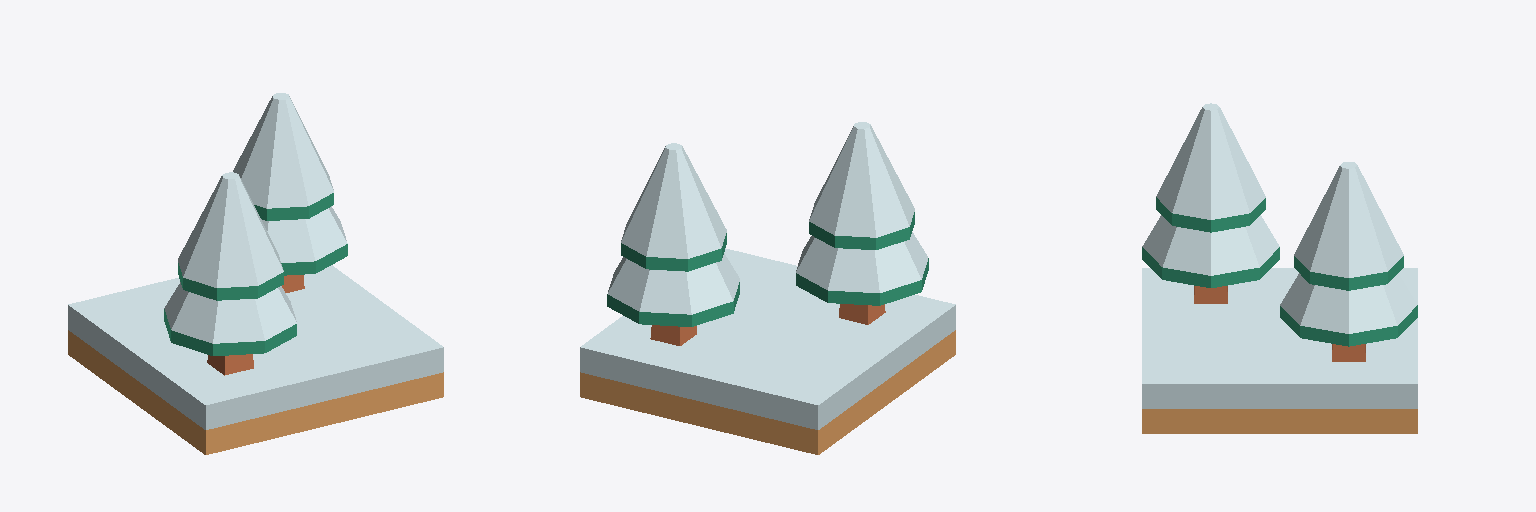
The model's file is snow_tile_treeDouble.obj.
3 renders of one model, left to right at view 1: azimuth 30°, elevation 25°; view 2: azimuth 150°, elevation 25°; view 3: azimuth 270°, elevation 25°, orthographic.
Parts seen in each view (by area): view 1: snow_tile_treeDouble, tree; view 2: snow_tile_treeDouble, tree; view 3: snow_tile_treeDouble, tree.
Boxes of the visible parts, box(x1,y1,x2,y2) form: snow_tile_treeDouble: box(68, 265, 443, 454); tree: box(164, 93, 347, 375); snow_tile_treeDouble: box(580, 248, 955, 454); tree: box(607, 122, 928, 345); snow_tile_treeDouble: box(1142, 268, 1417, 433); tree: box(1142, 103, 1417, 361).
Size of the model in its own units: 1 by 0.96 by 1.